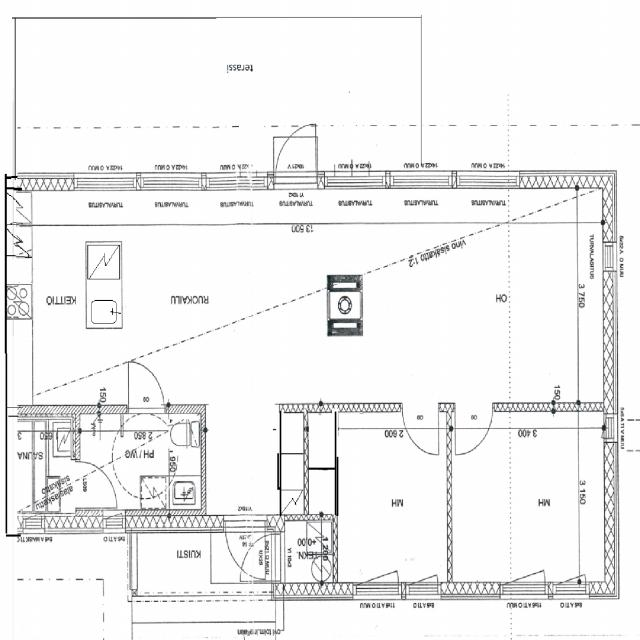door: (275, 119, 316, 190), (225, 515, 265, 584), (236, 534, 285, 580), (455, 403, 492, 460), (402, 403, 438, 458), (75, 461, 116, 508), (128, 362, 164, 414)
